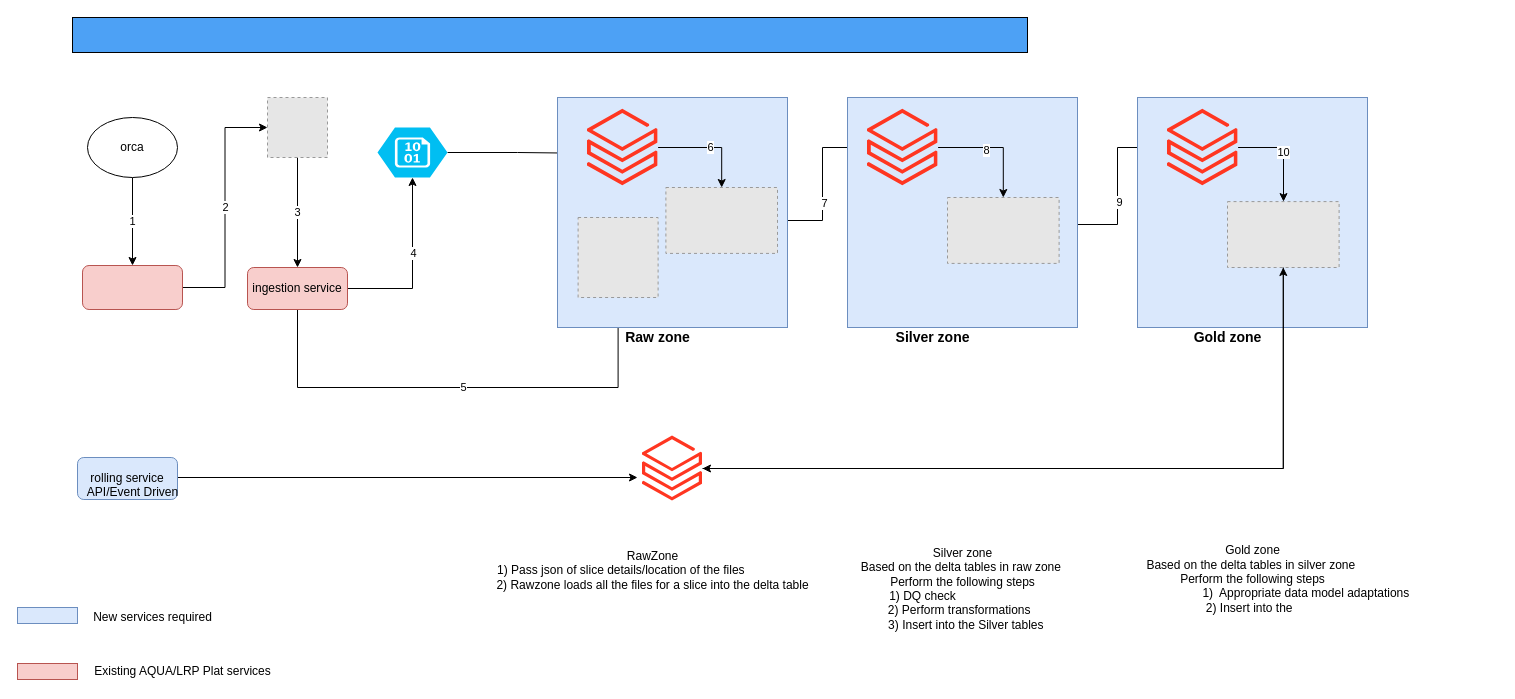
Image size: 1515x699. Some labels were removed from this diagram. Grey dashed boxes stand in for pictures. The centre of each missing label's shape, as x and y in pixels:
"orca listener" belongs at point 132,287.
"Workflow : Risk DQ/Transformation Integration pipeline" belongs at point 550,34.
